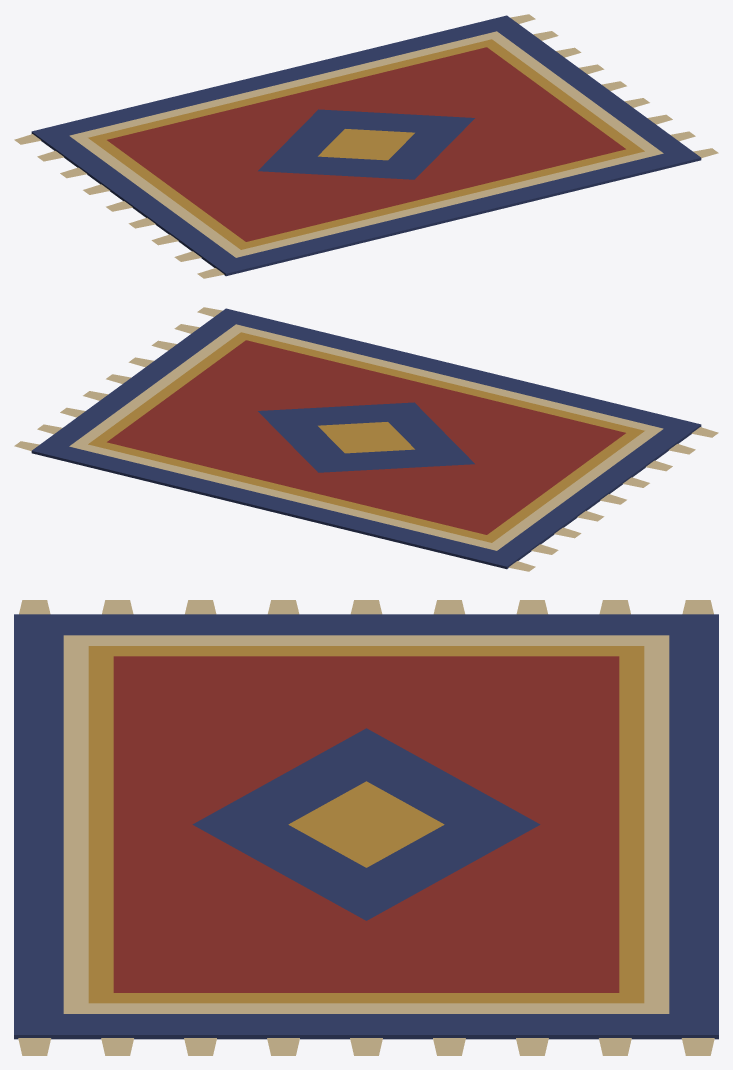
File: rug.glb
3 renders of one model, top to bottom at view 1: azimuth 30°, elevation 25°; view 2: azimuth 150°, elevation 25°; view 3: azimuth 270°, elevation 25°, orthographic. The views are drawn at different scales.
Parts seen in each view (by area): view 1: Rug; view 2: Rug; view 3: Rug.
Boxes of the visible parts, x1,y1,x2,y2 form: Rug: [14, 14, 718, 278]; Rug: [14, 307, 718, 571]; Rug: [14, 600, 718, 1055].
Size of the model in its own units: 2.6 by 0.012 by 1.7.
1 material, 1 textured.
